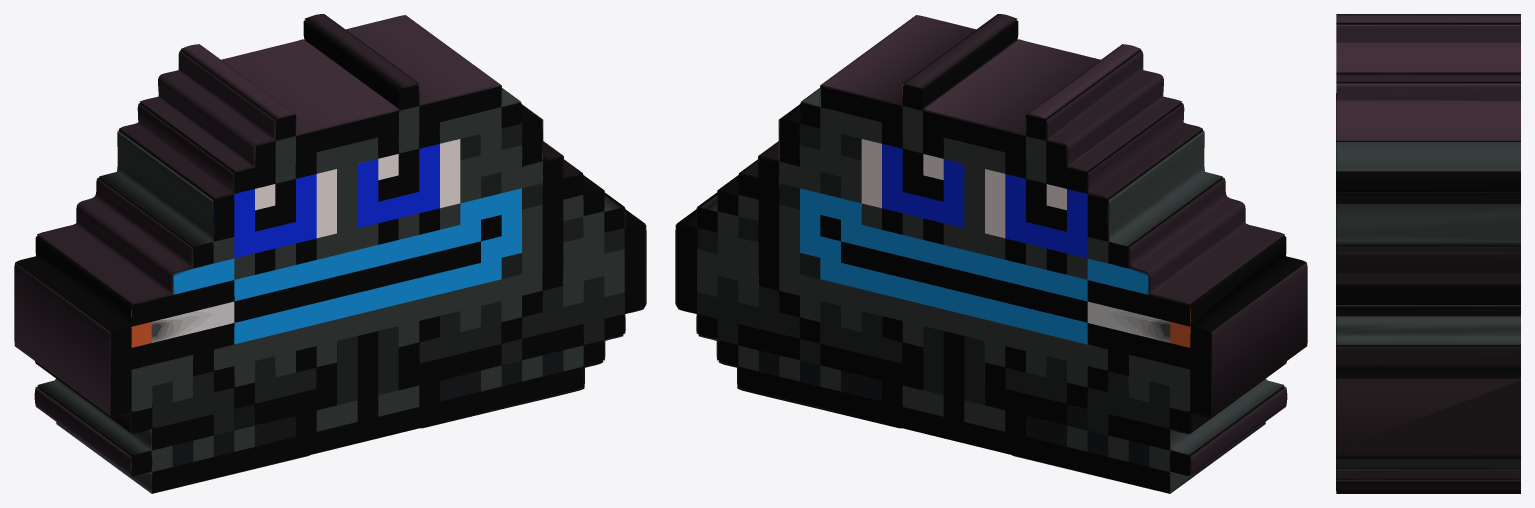
File: Toadz_3607.glb
3 renders of one model, left to right at view 1: azimuth 30°, elevation 25°; view 2: azimuth 150°, elevation 25°; view 3: azimuth 270°, elevation 25°, orthographic. The views are drawn at different scales.
Visible parts, largest first — view 1: Curve; view 2: Curve; view 3: Curve.
Boxes of the visible parts, x1=… form: Curve: x1=14, y1=14, x2=646, y2=493; Curve: x1=675, y1=14, x2=1307, y2=493; Curve: x1=1336, y1=14, x2=1520, y2=493.
Size of the model in its own units: 3.25 by 2.01 by 1.
